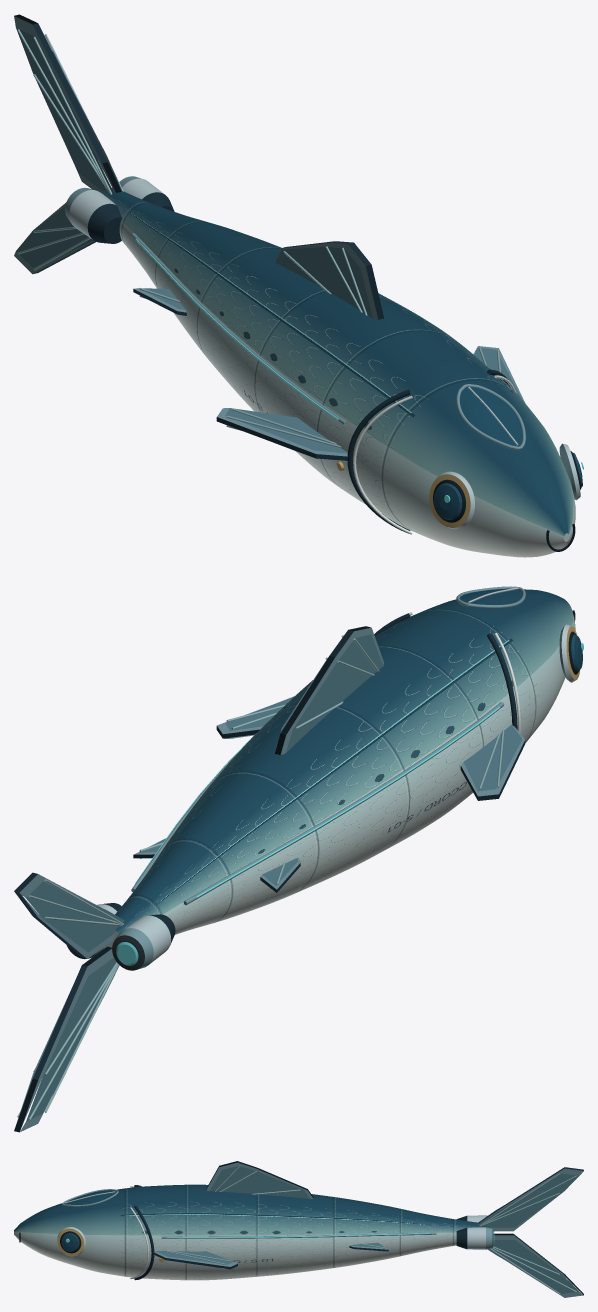
Rendered from sardine.glb.
3 views of the same model, one above another, from view 1: azimuth 30°, elevation 25°; view 2: azimuth 150°, elevation 25°; view 3: azimuth 270°, elevation 25° (orthographic). The views are drawn at different scales.
Parts seen in each view (by area): view 1: sardine_hull; view 2: sardine_hull; view 3: sardine_hull.
Part boxes in pixels (x1,y1,x2,y2): sardine_hull: (14,14,583,557); sardine_hull: (14,586,583,1132); sardine_hull: (14,1161,583,1297).
Bounding box in the file's own units: 4.8 × 4.25 × 16.2.
1 material, 1 textured.
